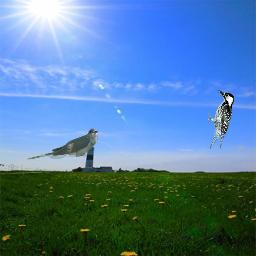Cuckoo: (26, 128, 98, 161)
Woodpecker: (208, 89, 234, 149)
